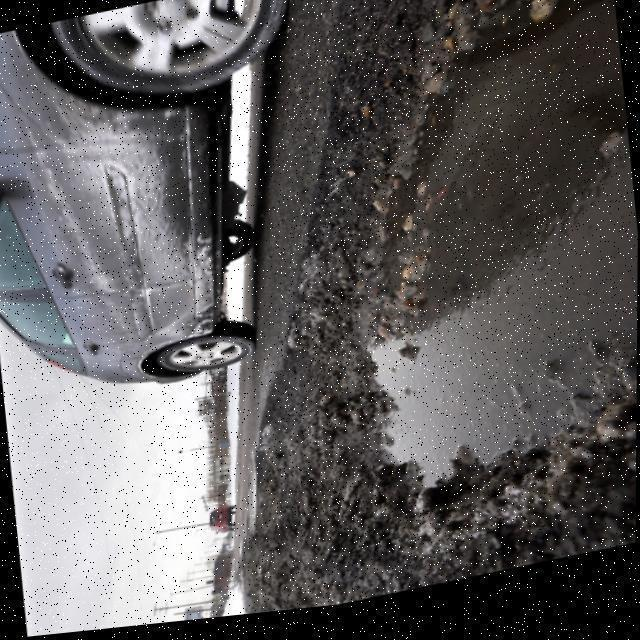Pothole: (248, 0, 638, 619)
